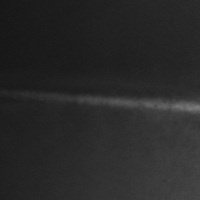scratches: (27, 90, 199, 116)
